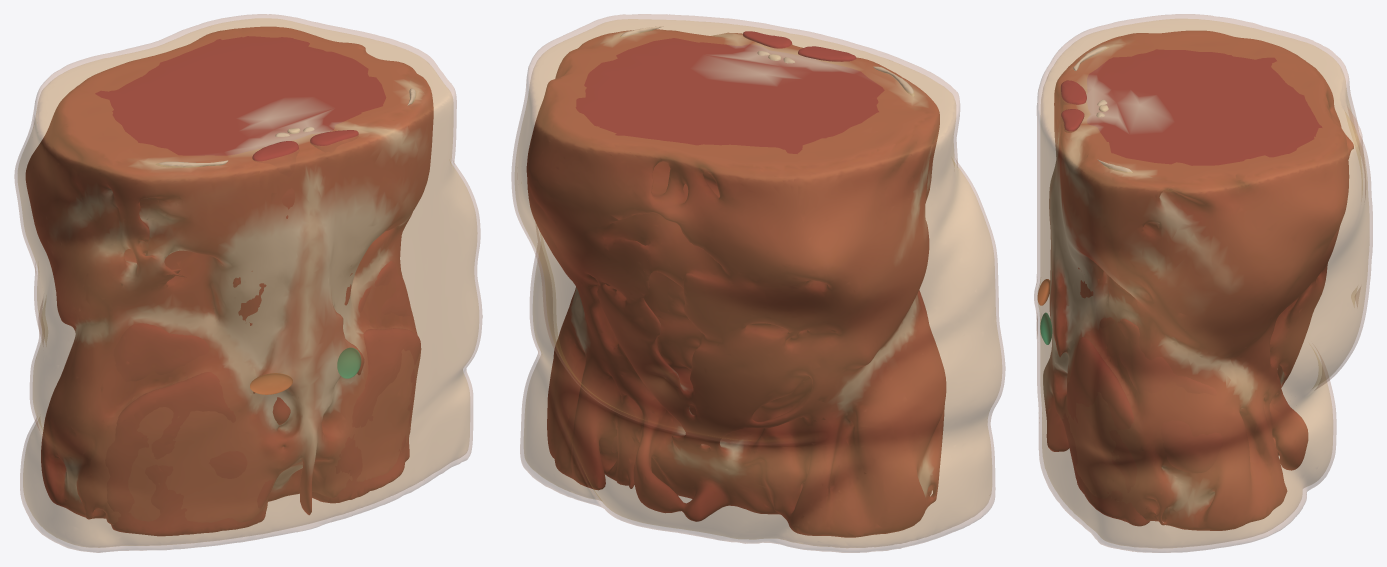
The model's file is lower-back-lipomas-anatomy.glb.
3 views of the same model, side by side, from view 1: azimuth 30°, elevation 25°; view 2: azimuth 150°, elevation 25°; view 3: azimuth 270°, elevation 25° (orthographic). The views are drawn at different scales.
Parts seen in each view (by area): view 1: Skin, Subcutaneous fat, Deep fascia and superficial muscles, Gluteus maximus (left), Gluteus maximus (right), Gluteus medius (left), Erector spinae and multifidus (left), Gluteus medius (right), Erector spinae and multifidus (right), Left lipoma, Right lipoma; view 2: Skin, Subcutaneous fat, Deep fascia and superficial muscles, Erector spinae and multifidus (left); view 3: Skin, Subcutaneous fat, Deep fascia and superficial muscles, Gluteus maximus (right), Gluteus medius (right), Erector spinae and multifidus (right), Erector spinae and multifidus (left).
Boxes of the visible parts, box(x1,y1,x2,y2) form: Skin: box(14, 14, 482, 552); Subcutaneous fat: box(18, 19, 478, 547); Deep fascia and superficial muscles: box(25, 26, 433, 524); Gluteus maximus (left): box(105, 372, 273, 536); Gluteus maximus (right): box(312, 328, 420, 503); Gluteus medius (left): box(113, 323, 208, 381); Erector spinae and multifidus (left): box(233, 141, 299, 424); Gluteus medius (right): box(358, 261, 410, 316); Erector spinae and multifidus (right): box(310, 130, 358, 305); Left lipoma: box(250, 373, 292, 394); Right lipoma: box(337, 347, 361, 378); Skin: box(511, 14, 1005, 552); Subcutaneous fat: box(515, 19, 1001, 547); Deep fascia and superficial muscles: box(526, 29, 946, 537); Erector spinae and multifidus (left): box(798, 46, 856, 61); Skin: box(1034, 14, 1372, 552); Subcutaneous fat: box(1038, 19, 1368, 547); Deep fascia and superficial muscles: box(1043, 30, 1353, 530); Gluteus maximus (right): box(1062, 337, 1149, 526); Gluteus medius (right): box(1099, 317, 1223, 473); Erector spinae and multifidus (right): box(1060, 109, 1093, 298); Erector spinae and multifidus (left): box(1059, 80, 1086, 116).
Bounding box in the file's own units: 0.4318 × 0.357 × 0.3053.
